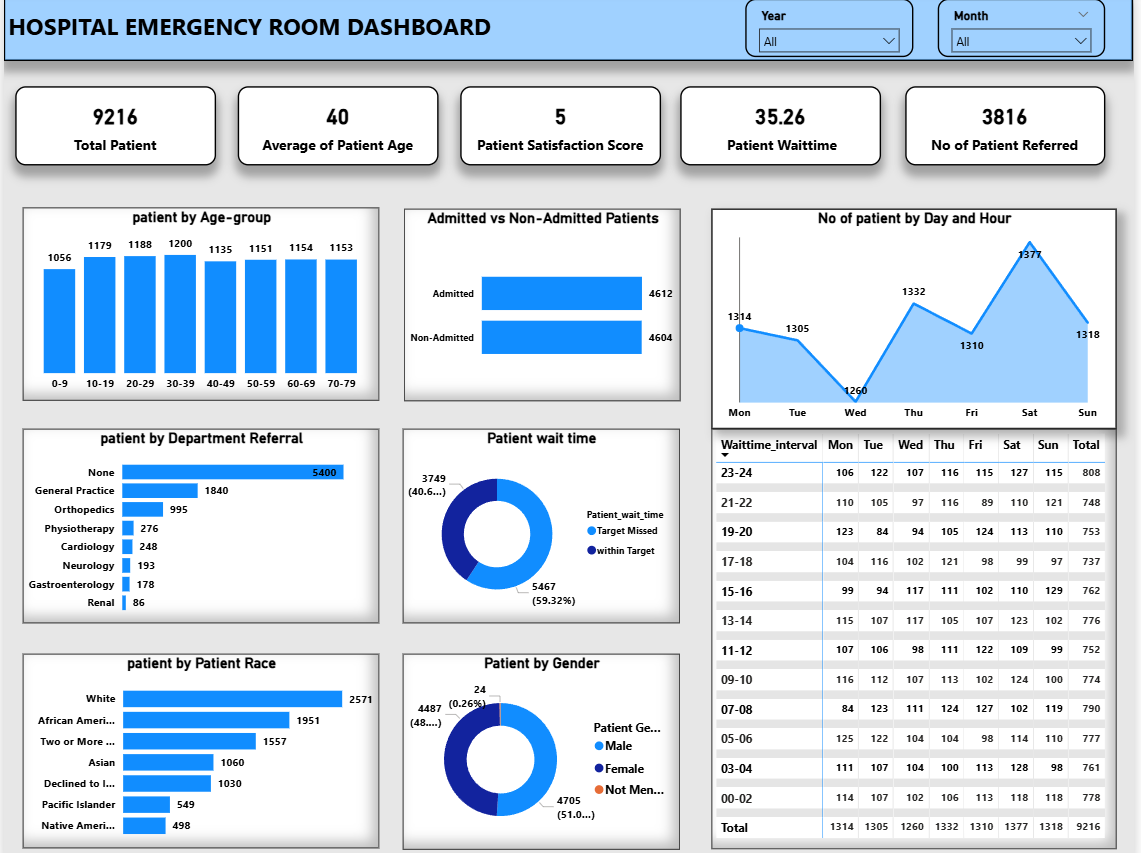

Layout of this report page (visuals, bound fields, positions):
{"tool":"powerbi","page":{"name":"Page 1","canvas":[1280,1000],"ordinal":0},"visuals":[{"type":"shape","box":[0,0,1280.2,76.7],"z":0},{"type":"card","fields":{"Values":["Hospital ER_Data.No_of_patient"]},"box":[1338.7,299.9,200.7,180.8],"z":1000},{"type":"textbox","box":[0,13.5,826.9,48.1],"z":2000},{"type":"card","fields":{"Values":["Hospital ER_Data.No_of_patient"]},"box":[12.5,105,231.2,91.2],"z":4000},{"type":"slicer","fields":{"Values":["Date_Table.Month"]},"box":[1075,5,192.5,67.5],"z":5000},{"type":"slicer","fields":{"Values":["Date_Table.Year"]},"box":[853.8,4.8,193.3,67.3],"z":6000},{"type":"card","fields":{"Values":["Avg(Hospital ER_Data.Patient Waittime)"]},"box":[778.8,105,231.2,91.2],"z":7000},{"type":"card","fields":{"Values":["Avg(Hospital ER_Data.Patient Satisfaction Score)"]},"box":[525,105,231.2,91.2],"z":8000},{"type":"card","fields":{"Values":["Avg(Hospital ER_Data.Patient Age)"]},"box":[268.8,105,231.2,91.2],"z":9000},{"type":"card","fields":{"Values":["Hospital ER_Data.Dept_ref"]},"box":[1037.5,105,230,91.2],"z":10000},{"type":"donutChart","title":" Patient by Gender","fields":{"Category":["Hospital ER_Data.Patient Gender"],"Y":["Hospital ER_Data.No_of_patient"]},"box":[458.9,757.9,318.9,225.3],"z":11000},{"type":"clusteredBarChart","title":"patient by Department Referral","fields":{"Category":["Hospital ER_Data.Department Referral"],"Y":["Hospital ER_Data.No_of_patient"]},"box":[21.1,500,410.5,224.2],"z":12000},{"type":"clusteredColumnChart","title":"patient by Age-group","fields":{"Y":["Hospital ER_Data.No_of_patient"],"Category":["Hospital ER_Data.Age_group"]},"box":[21.1,245.3,410.5,222.1],"z":13000},{"type":"clusteredBarChart","title":"patient by Patient Race","fields":{"Category":["Hospital ER_Data.Patient Race"],"Y":["Hospital ER_Data.No_of_patient"]},"box":[21.1,758.9,410.5,224.2],"z":14000},{"type":"donutChart","title":"Patient wait time","fields":{"Y":["Hospital ER_Data.No_of_patient"],"Category":["Hospital ER_Data.Patient_wait_time"]},"box":[458.9,500,318.9,224.2],"z":15000},{"type":"clusteredBarChart","title":"Admitted vs Non-Admitted Patients","fields":{"Y":["Hospital ER_Data.No_of_patient"],"Category":["Hospital ER_Data.Admission_status"]},"box":[460,246.2,318.8,221.2],"z":16000},{"type":"pivotTable","fields":{"Rows":["Hospital ER_Data.Waittime_interval"],"Columns":["Date_Table.Day_name"],"Values":["Hospital ER_Data.No_of_patient"]},"box":[814.4,499.4,466.3,483.6],"z":17000},{"type":"areaChart","title":"No of patient by Day and Hour","fields":{"Category":["Date_Table.Day_name"],"Y":["Hospital ER_Data.No_of_patient"]},"box":[814.4,245.7,466.3,253.6],"z":18000}]}

Visuals, with their boxes in screenshot pixels (x1, y1, x2, y2):
shape: locate(0, 0, 1116, 58)
textbox: locate(0, 3, 721, 45)
card - Hospital ER_Data.No_of_patient: locate(11, 83, 212, 162)
slicer - Date_Table.Month: locate(937, 0, 1105, 54)
slicer - Date_Table.Year: locate(744, 0, 913, 54)
card - Avg(Hospital ER_Data.Patient Waittime): locate(679, 83, 881, 162)
card - Avg(Hospital ER_Data.Patient Satisfaction Score): locate(458, 83, 659, 162)
card - Avg(Hospital ER_Data.Patient Age): locate(234, 83, 436, 162)
card - Hospital ER_Data.Dept_ref: locate(905, 83, 1105, 162)
" Patient by Gender" donutChart: locate(400, 652, 678, 848)
"patient by Department Referral" clusteredBarChart: locate(18, 427, 376, 623)
"patient by Age-group" clusteredColumnChart: locate(18, 205, 376, 399)
"patient by Patient Race" clusteredBarChart: locate(18, 653, 376, 848)
"Patient wait time" donutChart: locate(400, 427, 678, 623)
"Admitted vs Non-Admitted Patients" clusteredBarChart: locate(401, 206, 679, 399)
pivotTable - Hospital ER_Data.Waittime_interval x Date_Table.Day_name: locate(710, 427, 1117, 848)
"No of patient by Day and Hour" areaChart: locate(710, 205, 1117, 426)
